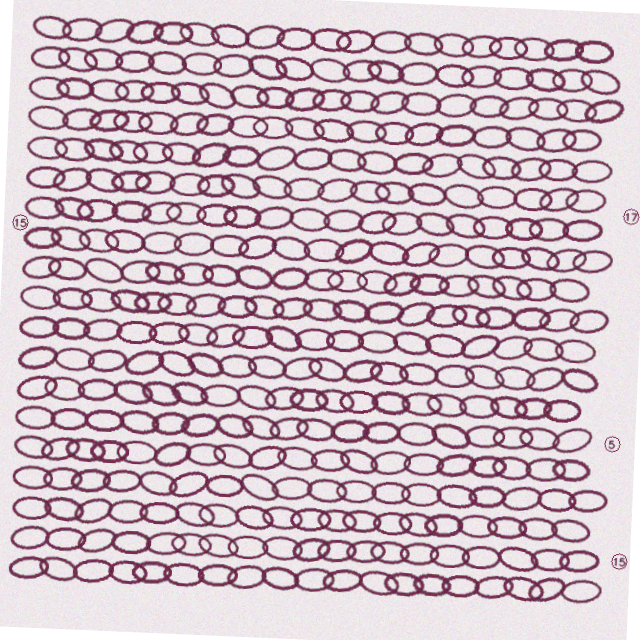chain: (243, 471, 291, 509), (172, 471, 219, 508), (393, 292, 439, 328), (458, 322, 504, 358), (79, 502, 125, 538), (185, 82, 230, 118), (262, 322, 307, 358), (181, 142, 227, 177), (395, 232, 441, 267), (156, 352, 202, 387), (525, 352, 571, 387), (554, 412, 600, 447), (246, 143, 293, 177), (328, 232, 373, 267), (536, 562, 581, 597), (79, 23, 125, 57), (446, 143, 492, 177), (79, 263, 125, 297), (123, 353, 169, 387), (342, 443, 388, 477), (84, 533, 130, 567), (378, 263, 423, 297), (185, 353, 230, 387), (243, 413, 288, 447), (433, 413, 478, 447), (156, 443, 201, 477), (212, 173, 258, 206), (17, 383, 63, 416), (234, 53, 279, 86), (572, 83, 617, 116), (531, 173, 576, 206), (232, 233, 277, 266), (204, 323, 249, 356), (491, 323, 536, 356), (307, 353, 352, 386), (251, 443, 296, 476), (216, 444, 262, 476), (505, 534, 551, 566), (560, 353, 604, 386), (171, 383, 215, 416), (44, 54, 89, 86), (567, 54, 612, 86), (487, 84, 532, 116), (413, 144, 458, 176), (44, 174, 89, 206), (541, 234, 586, 266), (17, 354, 62, 386), (464, 354, 509, 386), (142, 384, 187, 416), (237, 384, 282, 416), (44, 444, 89, 476), (143, 474, 188, 506), (358, 84, 402, 116), (47, 564, 91, 596), (230, 24, 275, 55), (244, 174, 289, 205), (309, 174, 354, 205), (45, 234, 90, 265), (515, 234, 560, 265), (488, 264, 533, 295), (282, 354, 327, 385), (342, 354, 387, 385), (181, 504, 226, 535), (512, 564, 557, 595), (353, 54, 397, 85), (394, 114, 438, 145), (77, 174, 121, 205), (47, 204, 91, 235), (351, 204, 395, 235), (439, 204, 483, 235), (107, 294, 151, 325), (391, 324, 435, 355), (440, 444, 484, 475), (274, 115, 319, 145), (495, 115, 540, 145), (526, 115, 571, 145), (502, 145, 547, 175), (363, 235, 408, 265), (183, 295, 228, 325), (428, 385, 473, 415), (111, 24, 154, 55), (159, 114, 202, 145), (409, 204, 452, 235), (266, 234, 309, 265), (18, 264, 61, 295), (463, 264, 506, 295), (218, 414, 261, 445), (300, 534, 343, 565), (165, 25, 209, 55), (196, 25, 240, 55), (262, 55, 306, 85), (297, 55, 341, 85), (273, 85, 317, 115), (436, 175, 480, 205), (135, 205, 179, 235), (248, 205, 292, 235), (270, 295, 314, 325), (449, 295, 493, 325), (537, 295, 581, 325), (114, 385, 158, 415), (272, 415, 316, 445), (241, 505, 285, 535), (405, 505, 449, 535), (206, 535, 250, 565), (368, 565, 412, 595), (231, 265, 274, 295), (267, 265, 310, 295), (183, 415, 226, 445), (270, 565, 313, 595), (425, 85, 469, 114), (18, 115, 62, 144), (74, 145, 118, 174), (284, 145, 328, 174), (460, 235, 504, 264), (242, 295, 286, 324), (567, 295, 611, 324), (281, 445, 325, 474), (507, 475, 551, 504), (50, 505, 94, 534), (236, 565, 280, 594), (18, 25, 61, 54), (159, 85, 202, 114), (424, 235, 467, 264), (266, 385, 309, 414), (491, 385, 534, 414), (122, 415, 165, 444), (18, 445, 61, 474), (375, 445, 418, 474), (18, 535, 61, 564), (332, 565, 375, 594), (484, 565, 527, 594), (48, 26, 92, 54), (448, 26, 492, 54), (449, 56, 493, 84), (303, 116, 347, 144), (424, 296, 468, 324), (424, 326, 468, 354), (442, 476, 486, 504), (154, 536, 198, 564), (82, 566, 126, 594), (186, 115, 228, 144), (248, 355, 290, 384), (322, 26, 365, 54), (390, 26, 433, 54), (530, 26, 573, 54), (513, 56, 556, 84), (301, 86, 344, 114), (52, 116, 95, 144), (79, 116, 122, 144), (426, 116, 469, 144), (100, 146, 143, 174), (400, 176, 443, 204), (376, 206, 419, 234), (74, 236, 117, 264), (568, 236, 611, 264), (44, 266, 87, 294), (141, 266, 184, 294), (362, 296, 405, 324), (177, 326, 220, 354), (88, 356, 131, 384), (370, 356, 413, 384), (299, 416, 342, 444), (76, 476, 119, 504), (558, 506, 601, 534), (18, 566, 61, 594), (571, 566, 614, 594), (546, 266, 590, 293), (46, 386, 90, 413), (269, 506, 313, 533), (153, 146, 195, 174), (330, 296, 372, 324), (317, 386, 359, 414), (297, 26, 340, 53), (420, 26, 463, 53), (201, 56, 244, 83), (386, 56, 429, 83), (128, 176, 171, 203), (100, 236, 143, 263), (354, 266, 397, 293), (18, 296, 61, 323), (82, 326, 125, 353), (523, 326, 566, 353), (496, 356, 539, 383), (523, 416, 566, 443), (108, 476, 151, 503), (206, 506, 249, 533), (304, 566, 347, 593), (135, 56, 177, 83), (330, 56, 372, 83), (219, 86, 261, 113), (319, 146, 361, 173), (559, 176, 601, 203), (117, 266, 159, 293), (79, 296, 121, 323), (373, 386, 415, 413), (516, 386, 558, 413), (70, 446, 112, 473), (497, 446, 539, 473), (271, 536, 313, 563), (18, 87, 61, 113), (46, 147, 89, 173), (277, 177, 320, 203), (343, 177, 386, 203), (71, 207, 114, 233), (284, 207, 327, 233), (436, 267, 479, 293), (555, 327, 598, 353), (173, 567, 216, 593), (510, 296, 551, 323), (155, 416, 196, 443), (334, 416, 375, 443), (355, 536, 396, 563), (263, 27, 305, 53), (501, 27, 543, 53), (103, 57, 145, 83), (423, 57, 465, 83), (78, 87, 120, 113), (546, 87, 588, 113), (337, 117, 379, 143), (463, 117, 505, 143), (19, 147, 61, 173), (349, 147, 391, 173), (385, 147, 427, 173), (564, 147, 606, 173), (104, 177, 146, 203), (368, 177, 410, 203), (19, 207, 61, 233), (318, 207, 360, 233), (137, 237, 179, 263), (301, 267, 343, 293), (301, 297, 343, 323), (474, 297, 516, 323), (55, 357, 97, 383), (400, 357, 442, 383), (313, 477, 355, 503), (180, 537, 222, 563), (326, 537, 368, 563), (568, 537, 610, 563), (118, 567, 160, 593), (394, 567, 436, 593), (148, 327, 191, 352), (404, 387, 447, 412), (214, 147, 255, 173), (474, 147, 515, 173), (190, 177, 231, 203), (19, 237, 60, 263), (199, 267, 240, 293), (132, 297, 173, 323), (366, 417, 407, 443), (325, 507, 366, 533), (423, 567, 464, 593), (358, 27, 400, 52), (459, 87, 501, 112), (553, 117, 595, 142), (19, 177, 61, 202), (191, 207, 233, 232), (557, 207, 599, 232), (462, 387, 504, 412), (19, 417, 61, 442), (497, 417, 539, 442), (531, 447, 573, 472), (278, 477, 320, 502), (115, 507, 157, 532), (298, 507, 340, 532), (465, 507, 507, 532), (54, 537, 96, 562), (140, 27, 181, 52), (19, 57, 60, 82), (72, 57, 113, 82), (170, 57, 211, 82), (541, 57, 582, 82), (45, 87, 86, 112), (104, 87, 145, 112), (391, 87, 432, 112), (518, 87, 559, 112), (161, 207, 202, 232), (524, 207, 565, 232), (170, 237, 211, 262), (171, 267, 212, 292), (51, 297, 92, 322), (19, 327, 60, 352), (358, 327, 399, 352), (219, 357, 260, 382), (80, 387, 121, 412), (401, 417, 442, 442), (469, 417, 510, 442), (191, 447, 232, 472), (557, 447, 598, 472), (19, 477, 60, 502), (49, 477, 90, 502), (544, 477, 585, 502), (575, 477, 616, 502), (350, 507, 391, 532), (495, 507, 536, 532), (526, 507, 567, 532), (379, 537, 420, 562), (409, 537, 450, 562), (142, 567, 183, 592), (208, 567, 249, 592), (482, 58, 524, 82), (129, 118, 171, 142), (125, 148, 167, 172), (163, 178, 205, 202), (468, 208, 510, 232), (300, 238, 342, 262), (116, 328, 158, 352), (232, 328, 274, 352), (203, 388, 245, 412), (409, 448, 451, 472), (237, 538, 279, 562), (52, 327, 92, 352), (474, 447, 514, 472), (475, 477, 515, 502), (432, 507, 472, 532), (476, 28, 517, 52), (130, 88, 171, 112), (330, 88, 371, 112), (104, 118, 145, 142), (219, 118, 260, 142), (244, 118, 285, 142), (531, 148, 572, 172), (471, 178, 512, 202), (106, 208, 147, 232), (488, 238, 529, 262), (325, 268, 366, 292), (407, 268, 448, 292), (514, 268, 555, 292), (156, 298, 197, 322), (216, 298, 257, 322), (295, 328, 336, 352), (436, 358, 477, 382), (342, 388, 383, 412), (88, 418, 129, 442), (122, 448, 163, 472), (316, 448, 357, 472), (343, 478, 384, 502), (378, 478, 419, 502), (408, 478, 449, 502), (147, 508, 188, 532), (120, 538, 161, 562), (439, 538, 480, 562), (471, 538, 512, 562), (562, 28, 602, 52), (246, 88, 286, 112), (366, 118, 406, 142), (507, 178, 547, 202), (218, 208, 258, 232), (500, 208, 540, 232), (206, 238, 246, 262), (326, 328, 366, 352), (292, 388, 332, 412), (546, 388, 586, 412), (54, 418, 94, 442), (95, 448, 135, 472), (212, 478, 252, 502), (20, 508, 60, 532), (381, 508, 421, 532), (540, 538, 580, 562), (452, 568, 492, 592)
noise: (6, 225, 26, 245), (616, 193, 636, 213), (607, 421, 627, 441), (619, 538, 639, 558)
